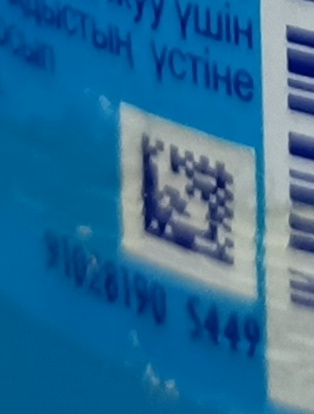2d: (138, 127, 235, 262)
